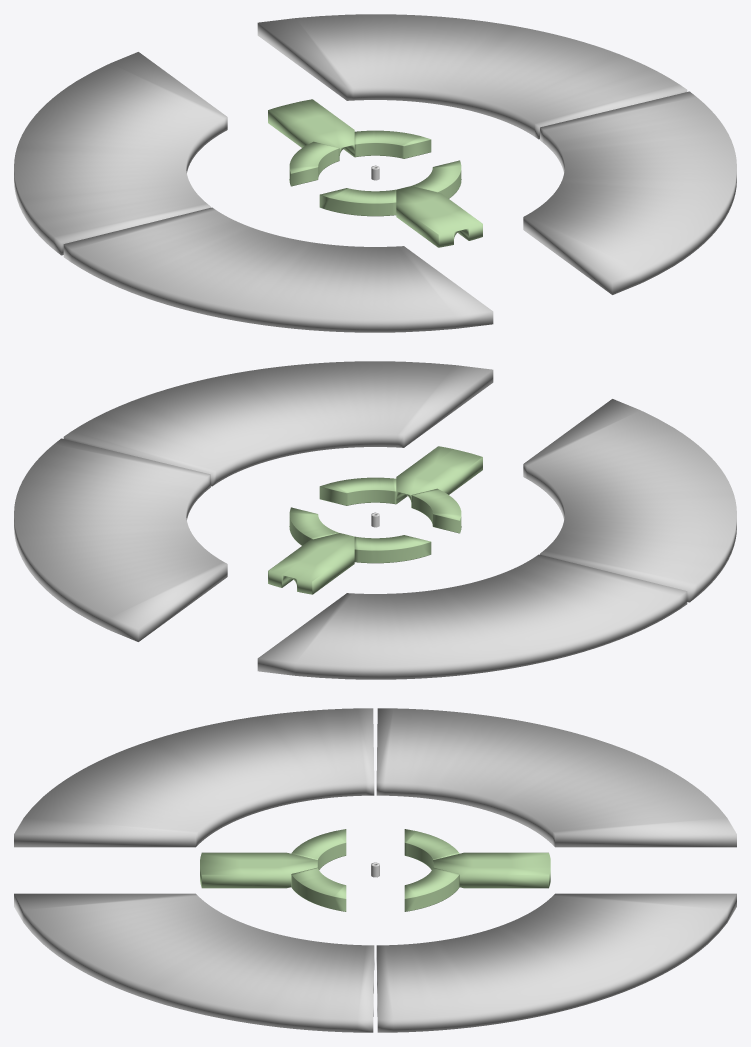
Rendered from fish_environment_1_2_water_only.glb.
The picture shows the model from 3 angles, top to bottom: view 1: azimuth 30°, elevation 25°; view 2: azimuth 150°, elevation 25°; view 3: azimuth 270°, elevation 25°; orthographic projection.
Visible parts, largest first — view 1: the big fish tank, the big fish tank.003, the big fish tank.001, the big fish tank.002, tunnel, tunnel.001, tilapia_tank.002, tilapia_tank, tilapia_tank.001, tilapia_tank.003; view 2: the big fish tank.002, the big fish tank.001, the big fish tank.003, the big fish tank, tunnel.001, tunnel, tilapia_tank.001, tilapia_tank.003, tilapia_tank.002, tilapia_tank; view 3: the big fish tank, the big fish tank.001, the big fish tank.002, the big fish tank.003, tunnel, tunnel.001, tilapia_tank, tilapia_tank.003, tilapia_tank.002, tilapia_tank.001.
Part boxes in pixels (<box>): the big fish tank: <box>63,207,493,332</box>; the big fish tank.003: <box>257,14,687,139</box>; the big fish tank.001: <box>523,91,736,294</box>; the big fish tank.002: <box>14,52,227,255</box>; tunnel: <box>396,186,482,247</box>; tunnel.001: <box>268,99,354,156</box>; tilapia_tank.002: <box>319,188,396,216</box>; tilapia_tank: <box>354,130,431,158</box>; tilapia_tank.001: <box>289,141,339,186</box>; tilapia_tank.003: <box>412,160,461,198</box>; the big fish tank.002: <box>257,554,687,679</box>; the big fish tank.001: <box>63,361,493,486</box>; the big fish tank.003: <box>14,438,227,641</box>; the big fish tank: <box>523,399,736,602</box>; tunnel.001: <box>268,533,354,594</box>; tunnel: <box>396,446,482,503</box>; tilapia_tank.001: <box>354,535,431,563</box>; tilapia_tank.003: <box>319,477,396,505</box>; tilapia_tank.002: <box>411,488,461,533</box>; tilapia_tank: <box>289,507,338,545</box>; the big fish tank: <box>14,708,374,847</box>; the big fish tank.001: <box>14,893,374,1032</box>; the big fish tank.002: <box>376,708,736,847</box>; the big fish tank.003: <box>376,893,736,1032</box>; tunnel: <box>200,852,317,888</box>; tunnel.001: <box>433,852,550,888</box>; tilapia_tank: <box>404,867,459,911</box>; tilapia_tank.003: <box>291,867,346,911</box>; tilapia_tank.002: <box>291,829,346,869</box>; tilapia_tank.001: <box>404,829,459,869</box>.
Size of the model in its own units: 126 by 2.5 by 124.
